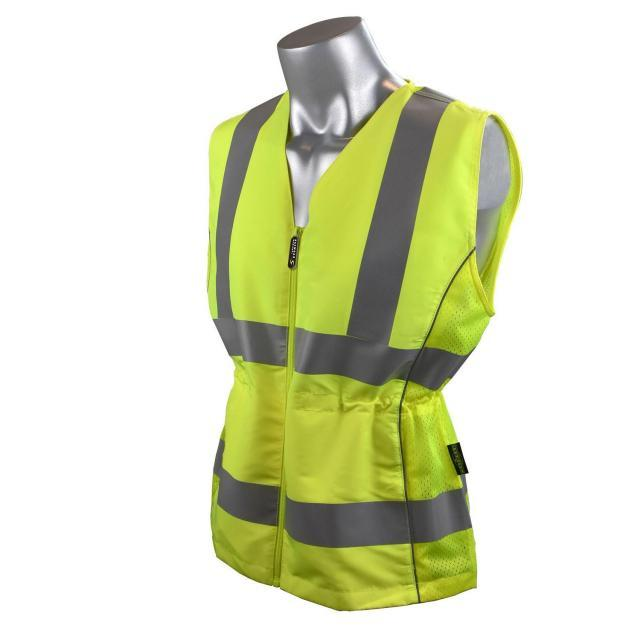reflective_jacket: (196, 63, 534, 620)
